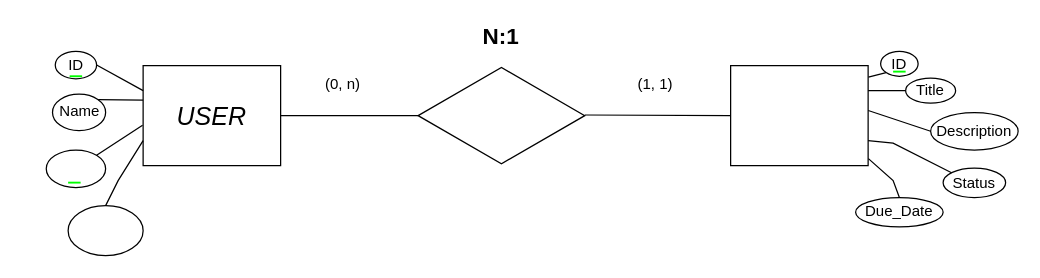
This 1040x278 diagram has some shape labels left out. Each missing label, with the centre of its shape:
"CREATE" belongs at (501,115).
"Email" belongs at (75,168).
"Password" belongs at (105,230).
"TASK" belongs at (798,115).
